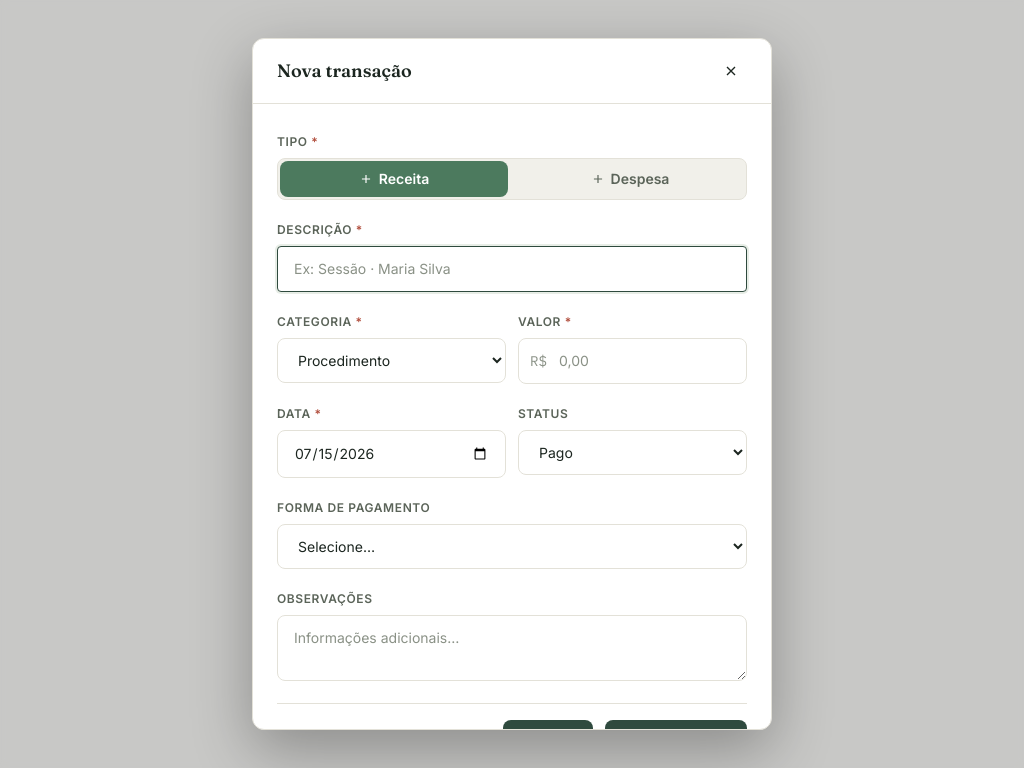
it: TransacaoModal › deve criar transação de receita e mostrar toast
The width and height of the screenshot is (1024, 768).
Preenche campos usando fireEvent.change para garantir valor correto
In the field with placeholder "Ex: Sessão · Maria Silva": (512, 269) [277,246,747,292], type "Sessão · Maria Silva"
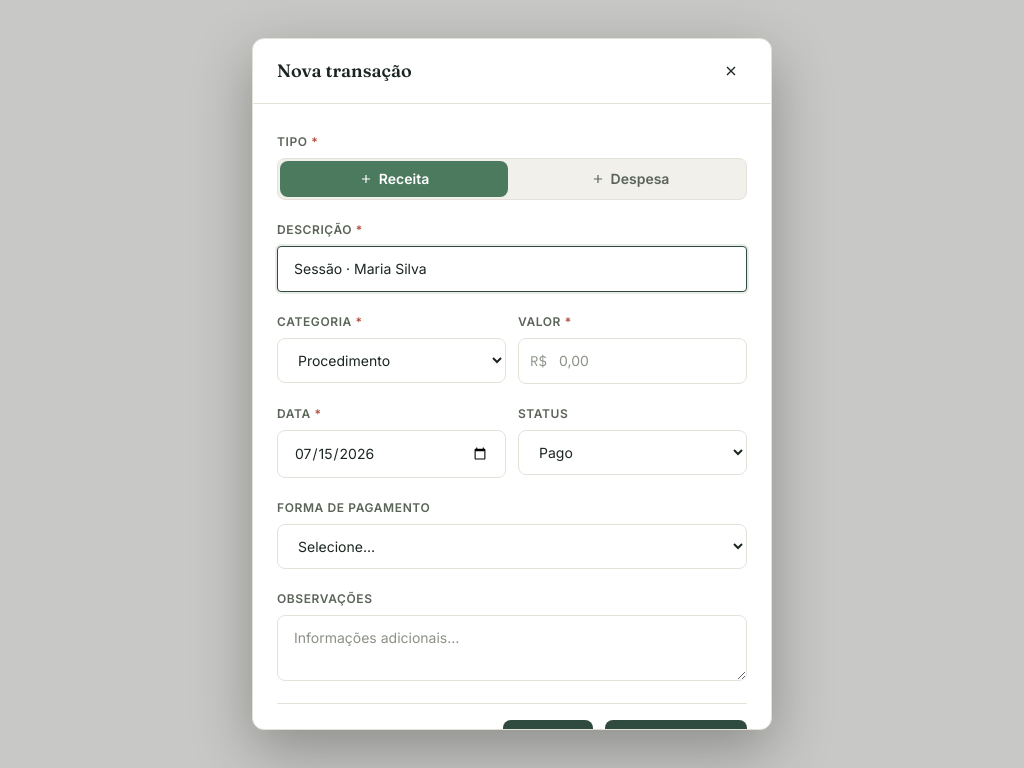
In the number field: (632, 361) [518,338,747,384], type "350"
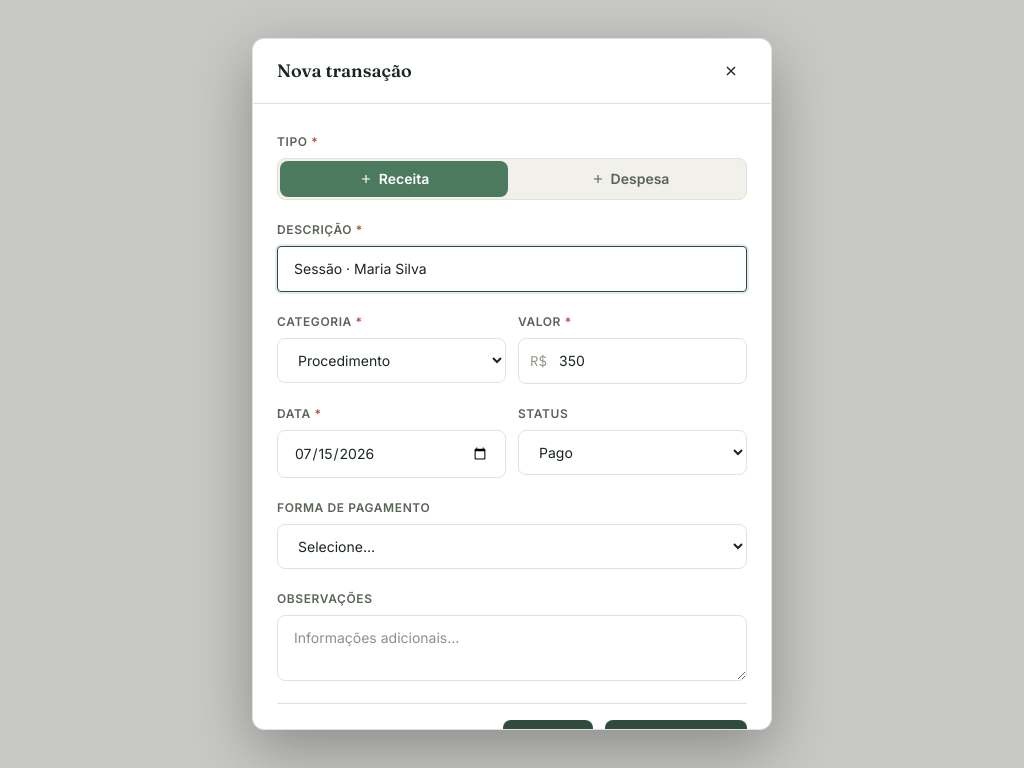
Submete o formulário diretamente
Submit the form, box [277,128,747,758]
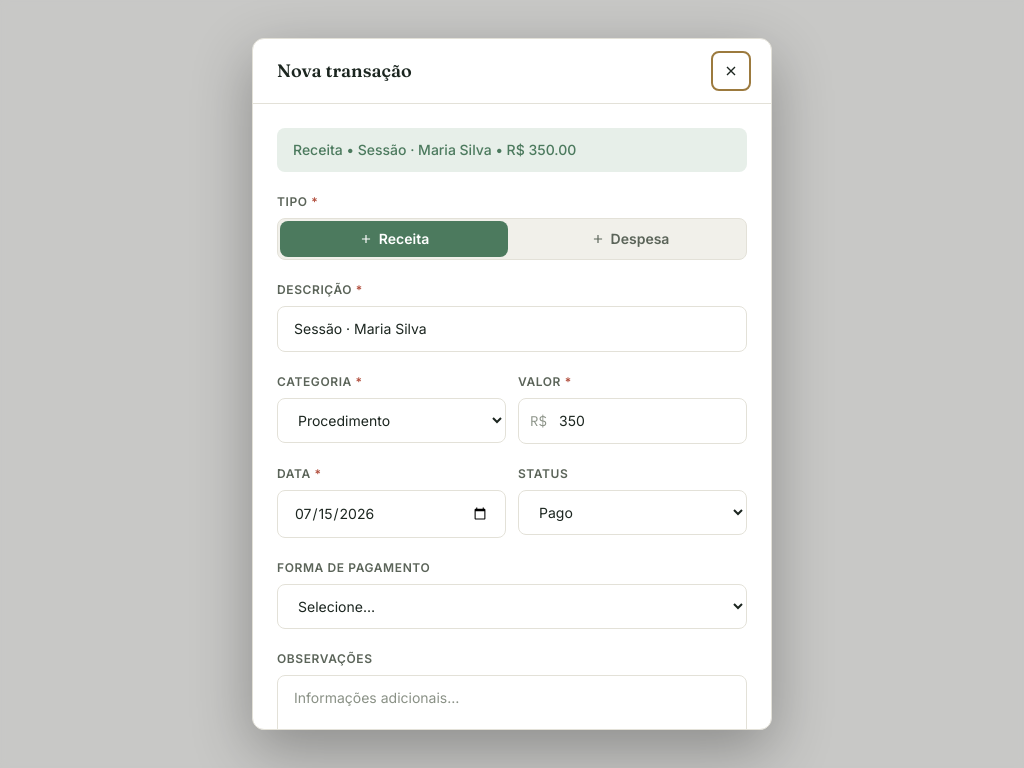
Check: the text "Receita • Sessão · Maria Silva • R$ 350.00" is shown, box [277,128,747,172]
